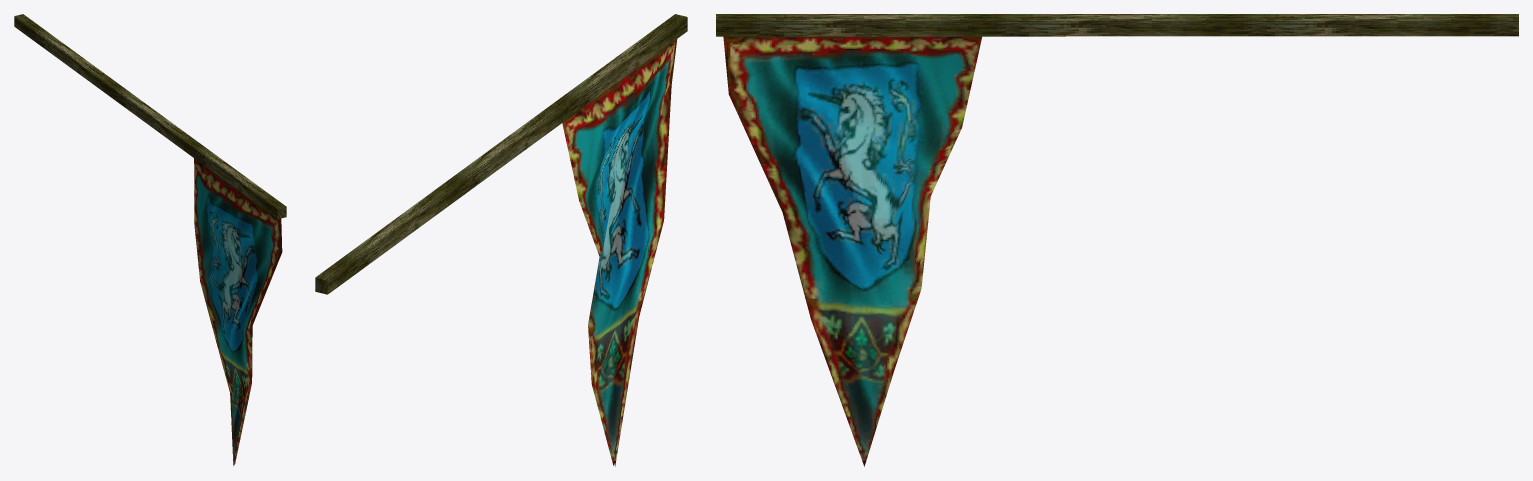
3 renders of one model, left to right at view 1: azimuth 30°, elevation 25°; view 2: azimuth 150°, elevation 25°; view 3: azimuth 270°, elevation 25°, orthographic. The views are drawn at different scales.
Visible parts, largest first — view 1: TN2_F4; view 2: TN2_F4; view 3: TN2_F4.
Boxes of the visible parts, bbox=[...] form: TN2_F4: bbox=[14, 14, 286, 466]; TN2_F4: bbox=[315, 14, 687, 466]; TN2_F4: bbox=[716, 14, 1518, 466].
Bounding box in the file's own units: 0.1418 × 2.11 × 3.42.
2 materials, 2 textured.
